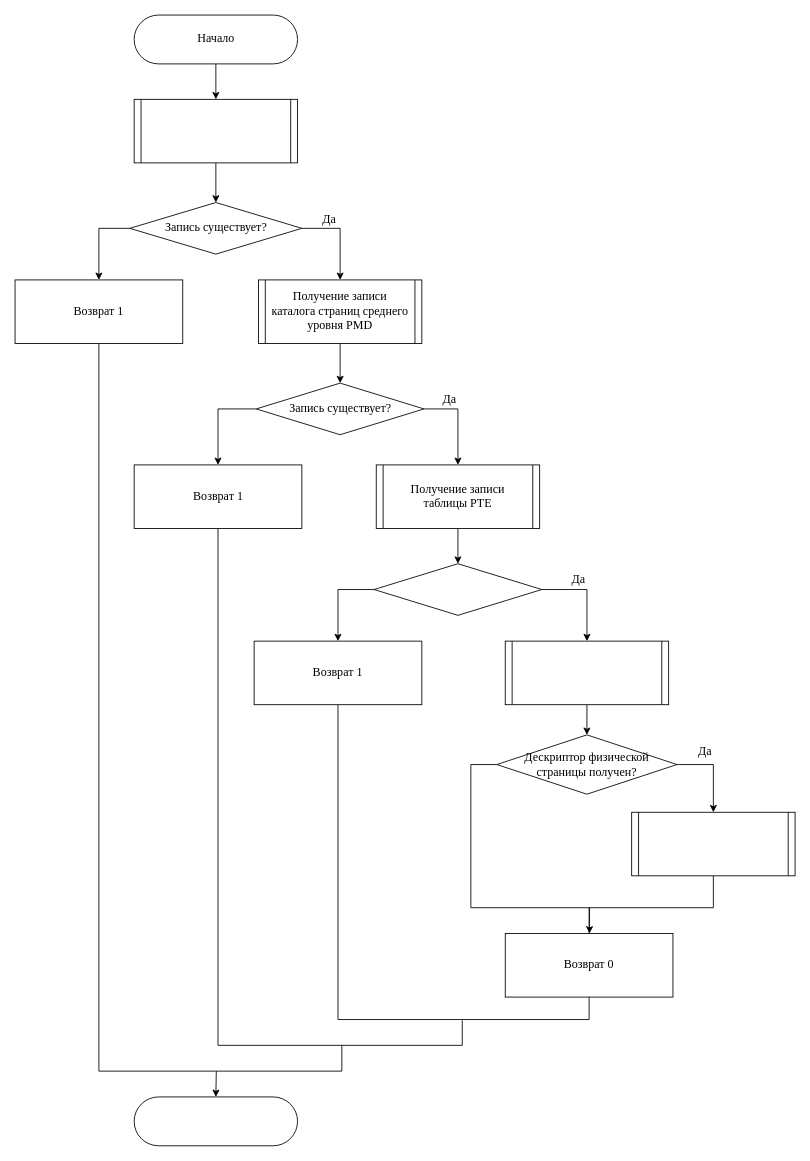
The diagram is 810 pixels wide and 1161 high, and some of its shapes have lost their labels. The centre of each missing label's shape, as x and y in pixels:
"Запись получена?" goes at point (457, 589).
"Конец" goes at point (215, 1121).
"Получение дескриптора физической страницы" goes at point (586, 672).
"Получение записи глобального каталога страниц PGD" goes at point (215, 130).
"Получение информации о состоянии физической страницы" goes at point (713, 843).
